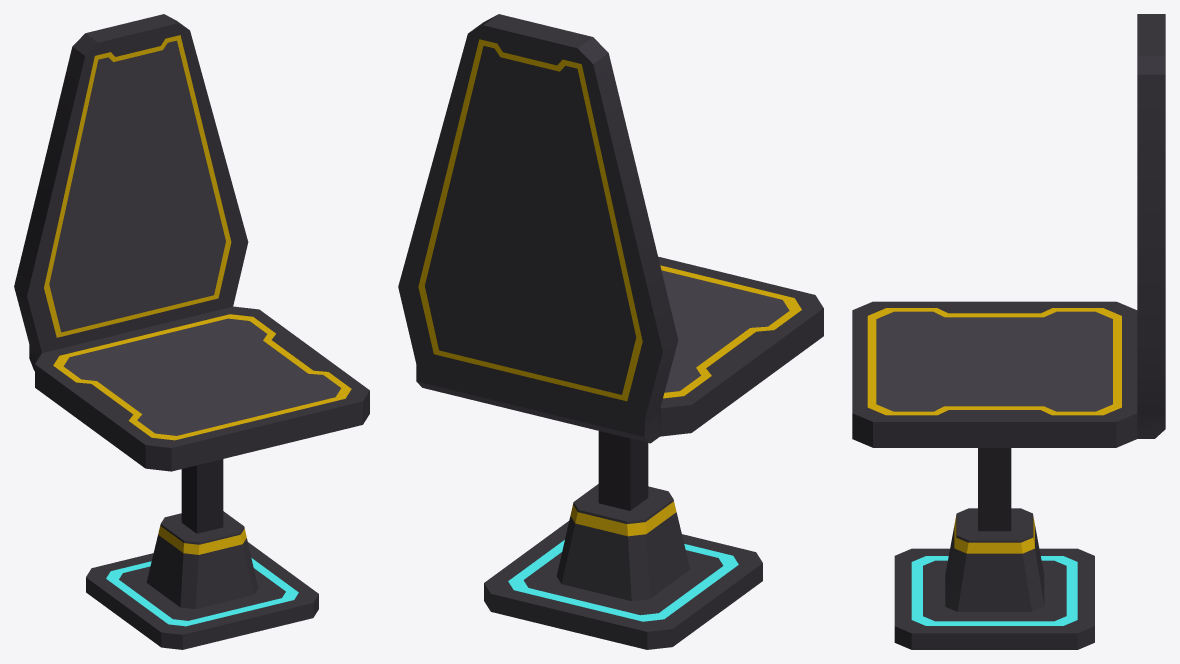
The model's file is SM_Props_Furniture_03.fbx.
The picture shows the model from 3 angles, left to right: view 1: azimuth 30°, elevation 25°; view 2: azimuth 150°, elevation 25°; view 3: azimuth 270°, elevation 25°; orthographic projection. The views are drawn at different scales.
Parts seen in each view (by area): view 1: SM_Props_Furniture_03; view 2: SM_Props_Furniture_03; view 3: SM_Props_Furniture_03.
Part boxes in pixels (bbox=[...]): SM_Props_Furniture_03: bbox=[14, 14, 369, 649]; SM_Props_Furniture_03: bbox=[398, 14, 823, 649]; SM_Props_Furniture_03: bbox=[852, 14, 1165, 649].
Size of the model in its own units: 0.4751 by 1.05 by 0.5225.
